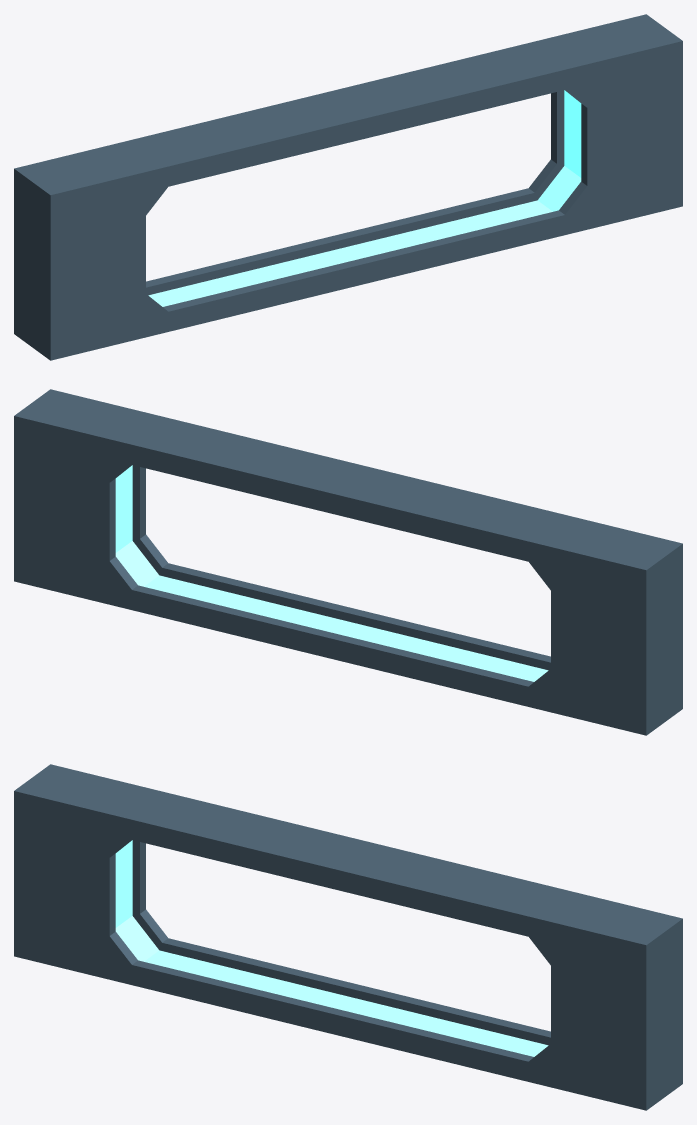
Rendered from W1_WallWindow1A_2m_Top.fbx.
The picture shows the model from 3 angles, top to bottom: view 1: azimuth 30°, elevation 25°; view 2: azimuth 150°, elevation 25°; view 3: azimuth 330°, elevation 25°; orthographic projection.
Parts seen in each view (by area): view 1: W1_WallWindow1A_2m_Top.001; view 2: W1_WallWindow1A_2m_Top.001; view 3: W1_WallWindow1A_2m_Top.001.
Boxes of the visible parts, x1,y1,x2,y2 form: W1_WallWindow1A_2m_Top.001: (14,14,682,360); W1_WallWindow1A_2m_Top.001: (14,389,682,735); W1_WallWindow1A_2m_Top.001: (14,764,682,1110).
Bounding box in the file's own units: 2 × 0.5 × 0.2.
